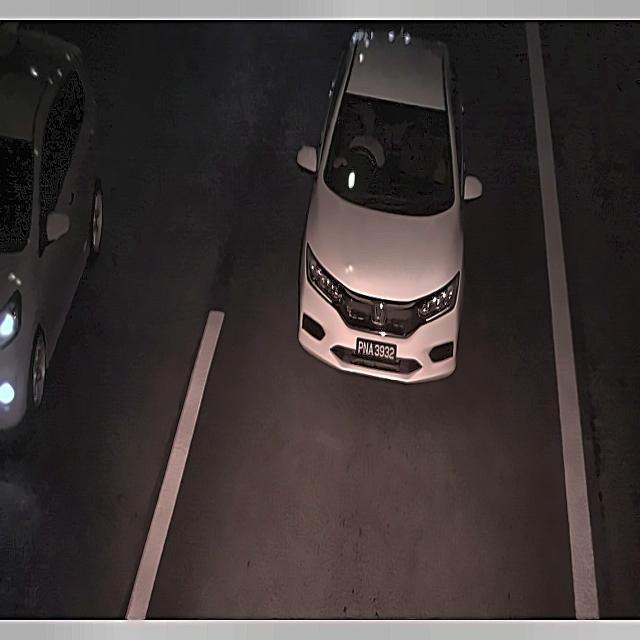car: (349, 329, 405, 366)
